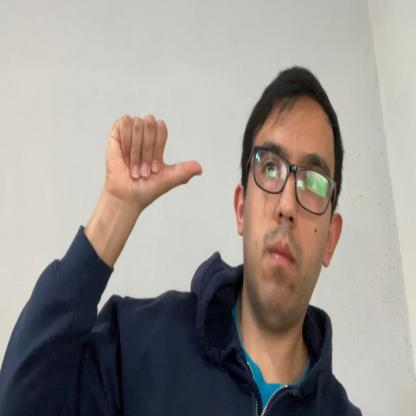A: (104, 111, 203, 210)
